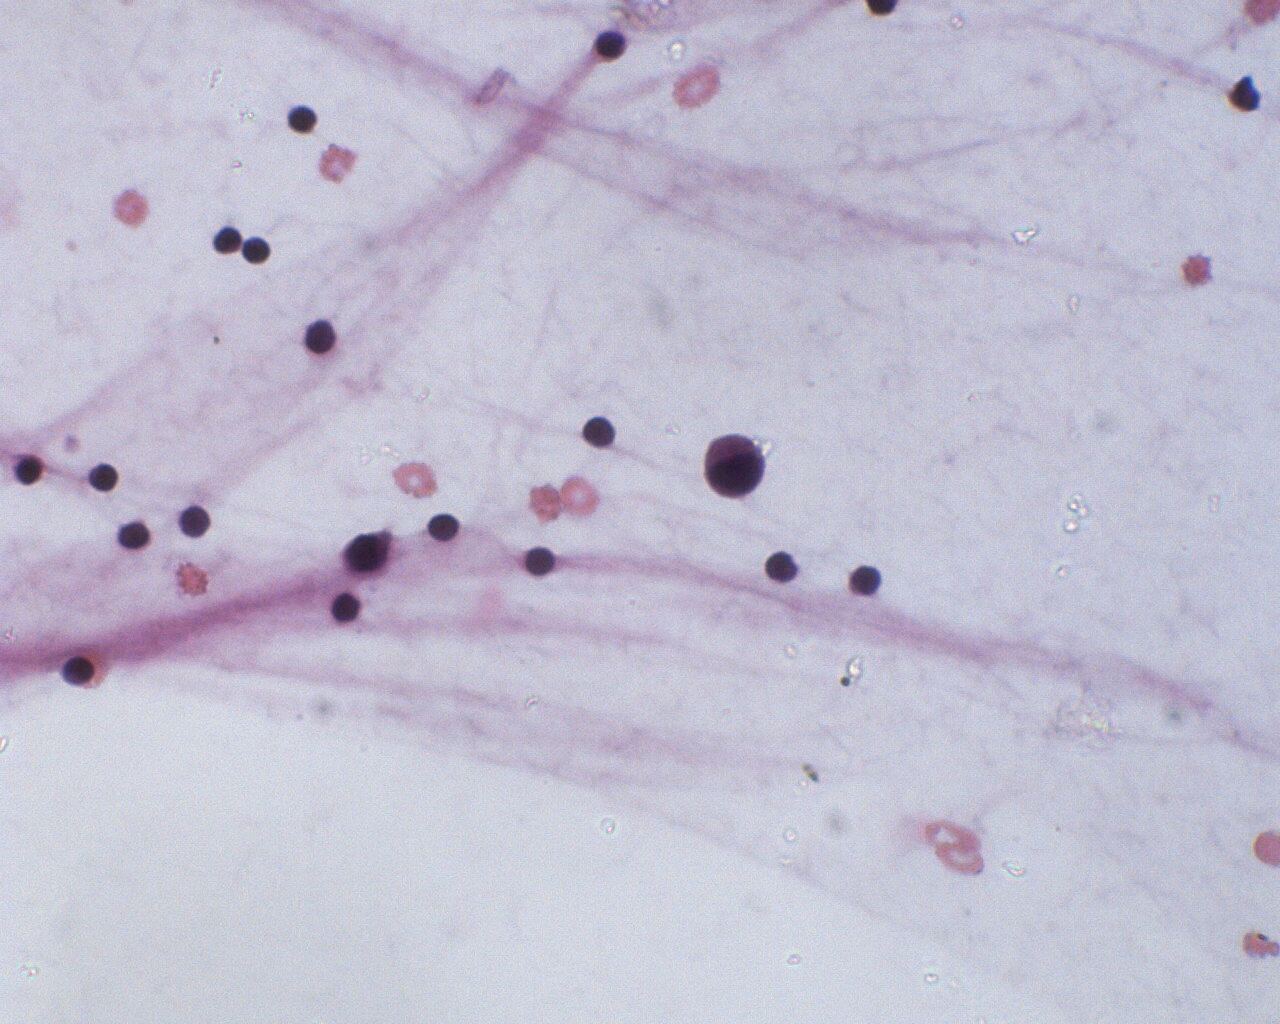ab: (699, 432, 772, 504)
lymph: (299, 317, 351, 360), (846, 554, 888, 601), (329, 585, 373, 629), (575, 411, 620, 452), (588, 26, 634, 66), (84, 456, 124, 499), (521, 538, 562, 582), (55, 651, 99, 692), (286, 99, 327, 141), (762, 542, 800, 586), (113, 514, 154, 554), (9, 449, 51, 488), (424, 511, 462, 551), (241, 232, 273, 272)
